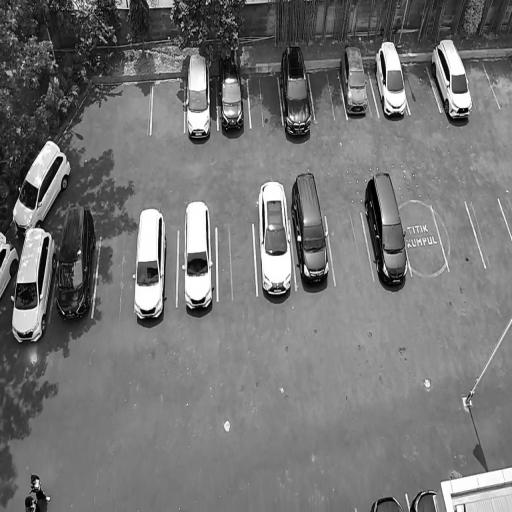Car: (7, 135, 74, 242), (361, 165, 413, 300), (6, 229, 59, 349), (52, 202, 98, 331), (290, 166, 333, 296), (426, 25, 480, 127), (257, 173, 295, 306), (181, 198, 217, 317), (133, 207, 169, 323), (278, 39, 317, 143), (371, 31, 411, 129), (337, 39, 373, 123), (218, 52, 246, 140), (185, 55, 212, 143), (0, 228, 21, 301), (370, 494, 407, 512), (413, 490, 438, 512)
Space Available: (400, 202, 450, 275), (434, 199, 485, 270), (93, 234, 136, 318), (327, 209, 373, 284), (217, 222, 259, 302), (466, 197, 512, 267), (400, 60, 442, 114), (247, 66, 283, 127), (151, 75, 186, 136), (308, 66, 346, 122), (462, 54, 499, 108), (483, 56, 512, 110)
